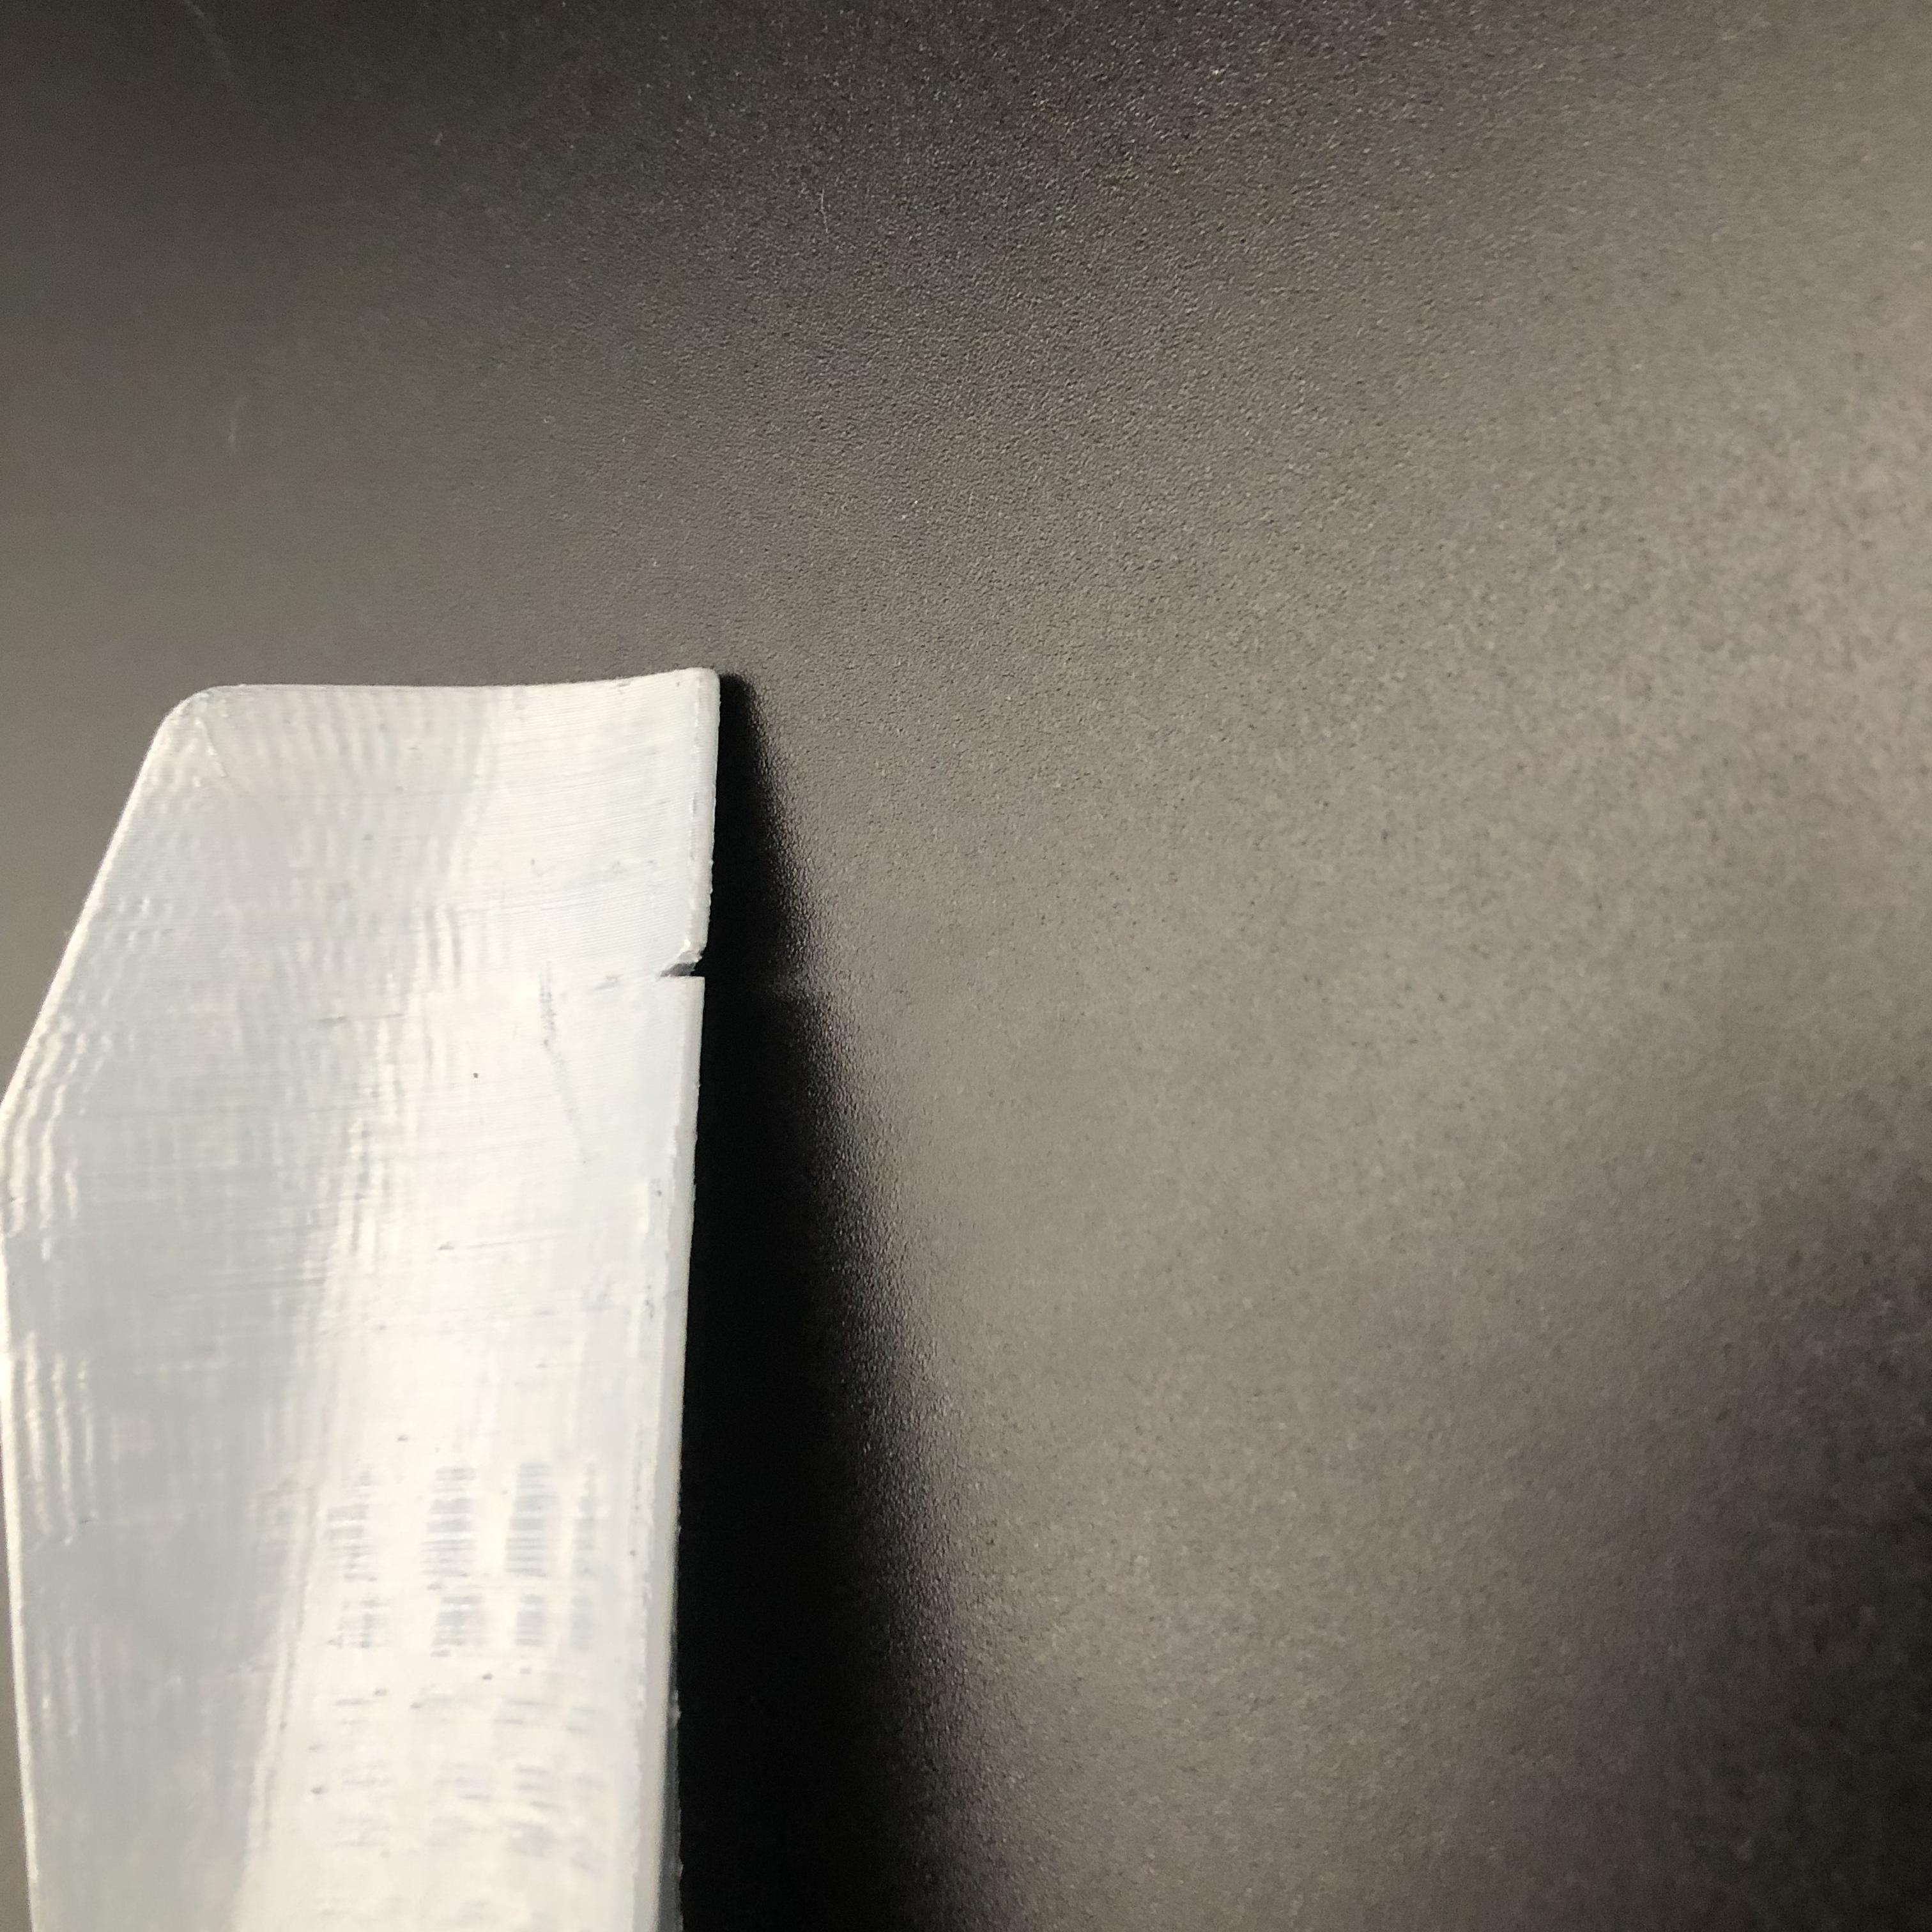groove: (658, 941, 706, 985)
